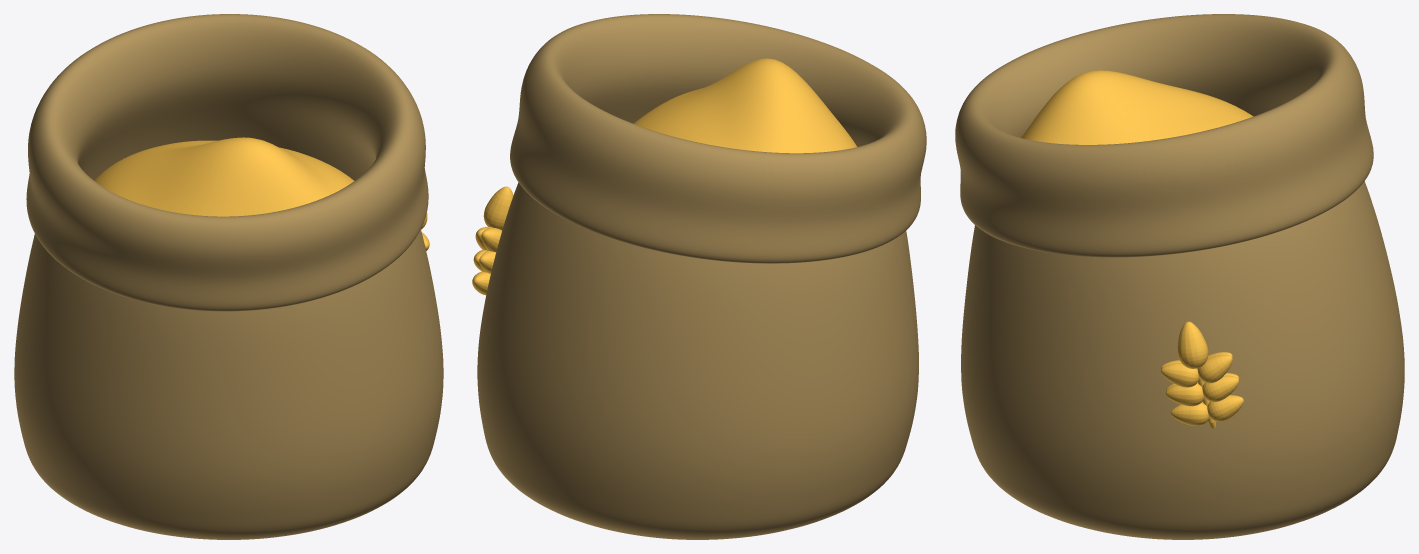
Rendered from flour_2.fbx.
3 renders of one model, left to right at view 1: azimuth 30°, elevation 25°; view 2: azimuth 150°, elevation 25°; view 3: azimuth 270°, elevation 25°, orthographic. The views are drawn at different scales.
Visible parts, largest first — view 1: farine_pot, farine; view 2: farine_pot, farine, Sphere.004; view 3: farine_pot, farine, Sphere.001, Sphere.002, Sphere.003, Sphere.004.
Boxes of the visible parts, x1,y1,x2,y2 form: farine_pot: (14, 14, 443, 539); farine: (94, 137, 354, 216); farine_pot: (477, 14, 926, 539); farine: (633, 58, 856, 153); Sphere.004: (483, 186, 513, 230); farine_pot: (955, 14, 1404, 539); farine: (1021, 70, 1253, 144); Sphere.001: (1161, 352, 1232, 387); Sphere.002: (1165, 373, 1239, 406); Sphere.003: (1171, 395, 1243, 425); Sphere.004: (1177, 321, 1208, 368).
Size of the model in its own units: 153 by 158 by 149.
